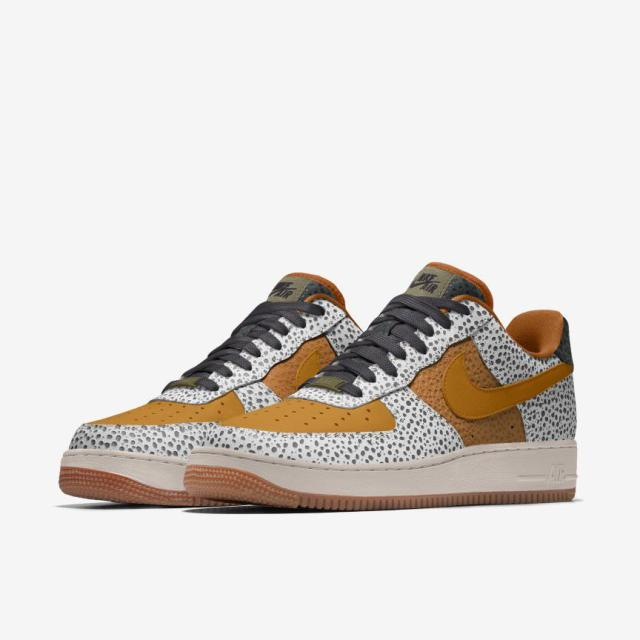shoe: (167, 247, 599, 540), (45, 258, 379, 523)
